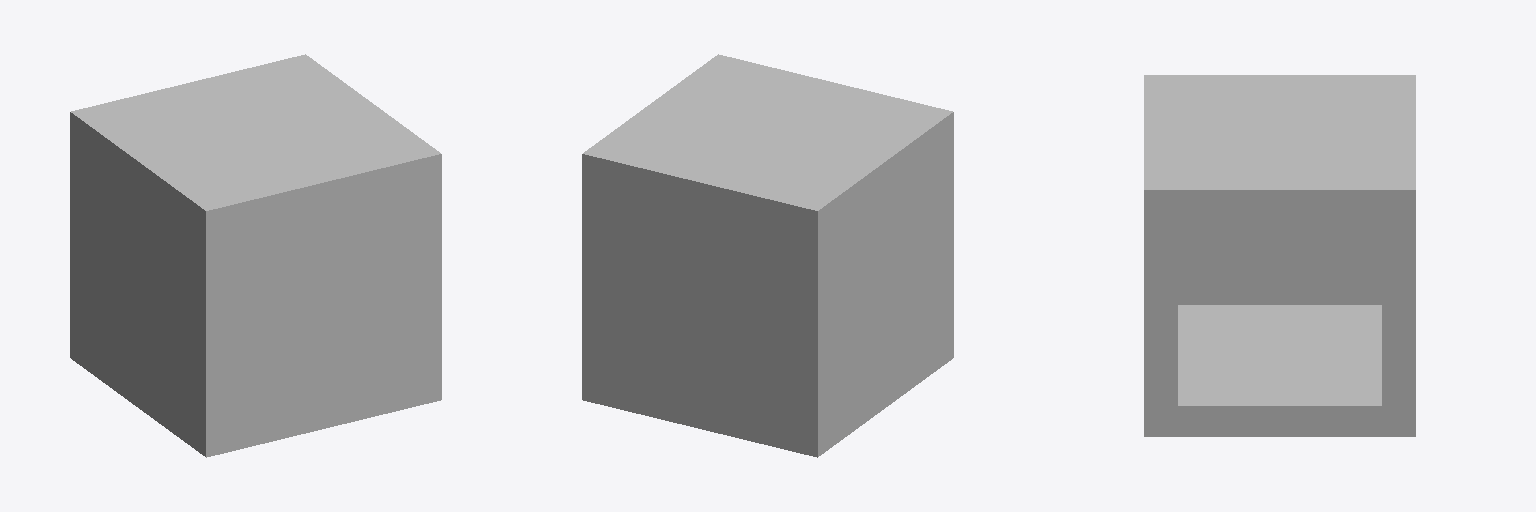
The model's file is PieceD.obj.
The picture shows the model from 3 angles: view 1: azimuth 30°, elevation 25°; view 2: azimuth 150°, elevation 25°; view 3: azimuth 270°, elevation 25°; orthographic projection.
Visible parts, largest first — view 1: D-Piece_Cube.007; view 2: D-Piece_Cube.007; view 3: D-Piece_Cube.007.
Boxes of the visible parts, x1,y1,x2,y2 form: D-Piece_Cube.007: [70, 54, 441, 457]; D-Piece_Cube.007: [582, 54, 953, 457]; D-Piece_Cube.007: [1144, 75, 1415, 436].
Size of the model in its own units: 2 by 2 by 2.